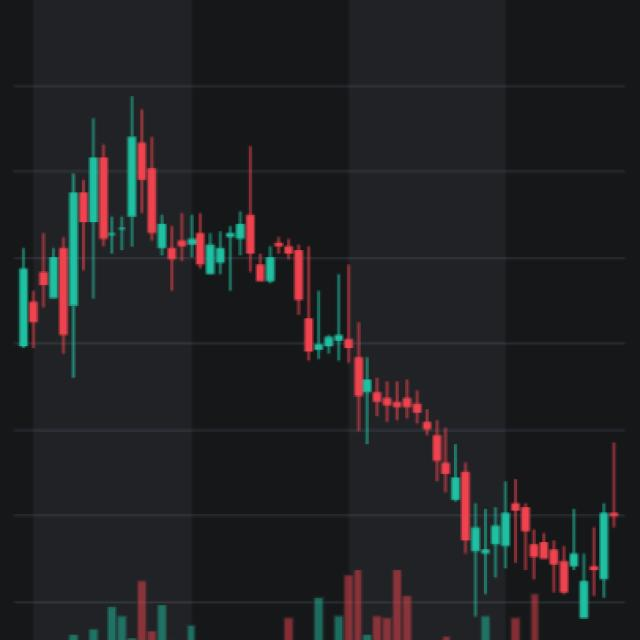Support-breakout: (17, 126, 451, 481)
